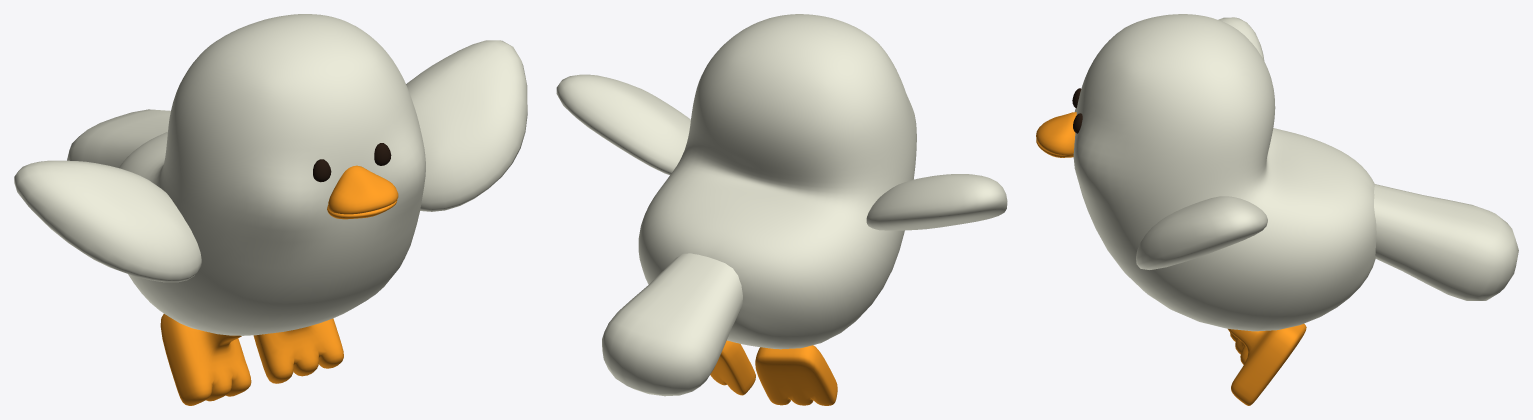
File: bird.glb
The picture shows the model from 3 angles, left to right: view 1: azimuth 30°, elevation 25°; view 2: azimuth 150°, elevation 25°; view 3: azimuth 270°, elevation 25°; orthographic projection. The views are drawn at different scales.
Parts seen in each view (by area): view 1: pigeon-white-heart-col; view 2: pigeon-white-heart-col; view 3: pigeon-white-heart-col.
Boxes of the visible parts, x1,y1,x2,y2 form: pigeon-white-heart-col: (14,14,527,405); pigeon-white-heart-col: (556,14,1007,405); pigeon-white-heart-col: (1036,14,1518,405).
Size of the model in its own units: 3.12 by 2.36 by 2.92.
